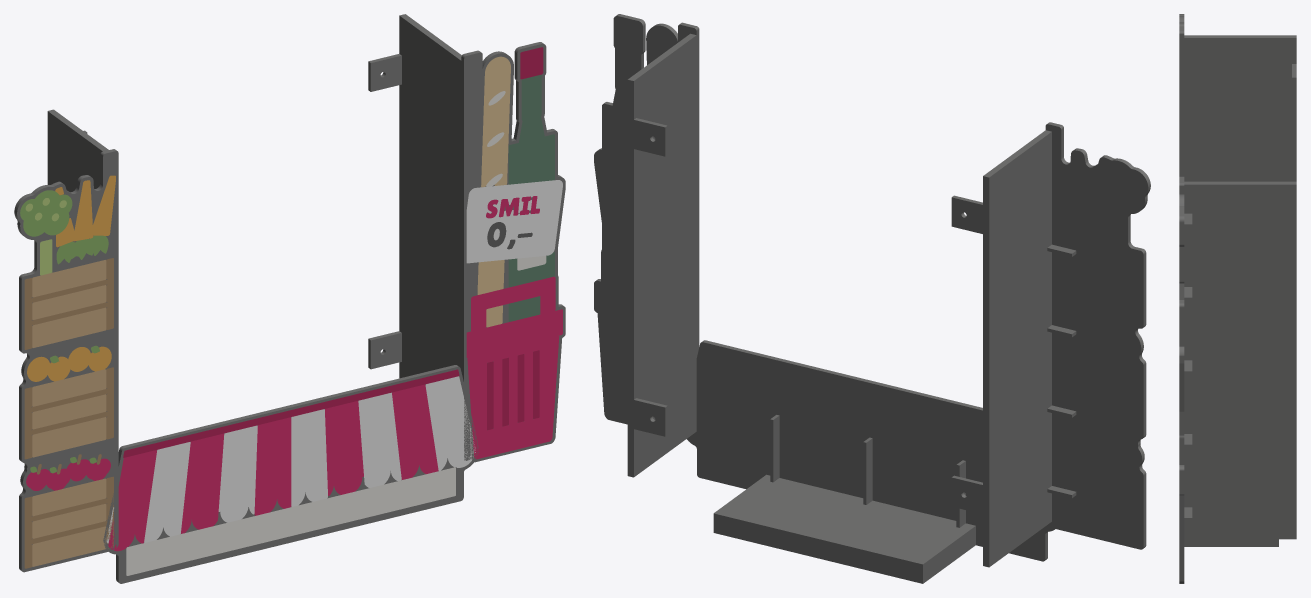
The model's file is parts.glb.
3 views of the same model, side by side, from view 1: azimuth 30°, elevation 25°; view 2: azimuth 150°, elevation 25°; view 3: azimuth 270°, elevation 25° (orthographic). The views are drawn at different scales.
Visible parts, largest first — view 1: wing_right__base, topper__white, topper__red, wing_left__wood, wing_left__base, wing_right__red, topper__cream, topper__base, wing_left__woodd, wing_right__white, wing_right__bottle, wing_right__bread (+6 smaller); view 2: wing_left__base, topper__base, wing_right__base; view 3: wing_right__base, wing_left__base, topper__base.
Boxes of the visible parts, x1=… form: wing_right__base: x1=368, y1=14, x2=565, y2=462; topper__white: x1=106, y1=376, x2=475, y2=543; topper__red: x1=108, y1=384, x2=438, y2=551; wing_left__wood: x1=32, y1=260, x2=106, y2=566; wing_left__base: x1=14, y1=109, x2=118, y2=572; wing_right__red: x1=466, y1=196, x2=562, y2=459; topper__cream: x1=126, y1=467, x2=455, y2=575; topper__base: x1=103, y1=365, x2=478, y2=583; wing_left__woodd: x1=24, y1=258, x2=113, y2=568; wing_right__white: x1=466, y1=180, x2=562, y2=263; wing_right__bottle: x1=508, y1=75, x2=554, y2=321; wing_right__bread: x1=477, y1=56, x2=510, y2=327; wing_left__base: x1=951, y1=122, x2=1150, y2=567; topper__base: x1=687, y1=340, x2=1060, y2=583; wing_right__base: x1=594, y1=14, x2=699, y2=477; wing_right__base: x1=1179, y1=176, x2=1296, y2=583; wing_left__base: x1=1179, y1=14, x2=1296, y2=181; topper__base: x1=1184, y1=539, x2=1278, y2=546.
Size of the model in its own units: 357 by 276 by 73.
